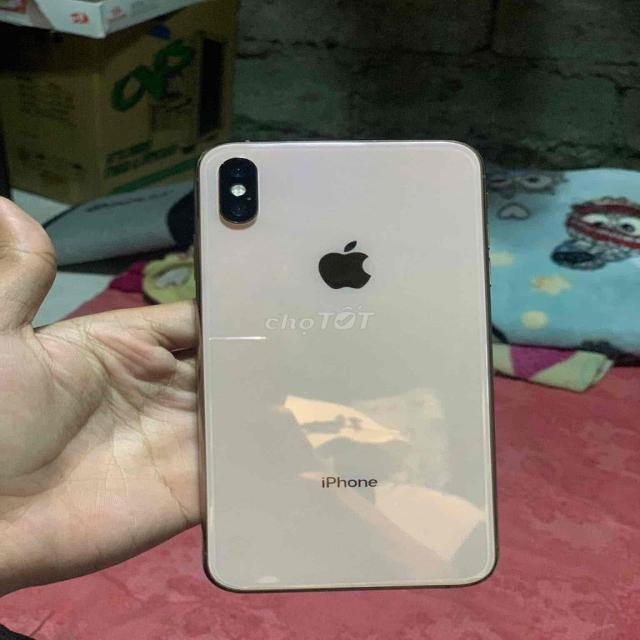gen_x_xs: (183, 129, 505, 604)
